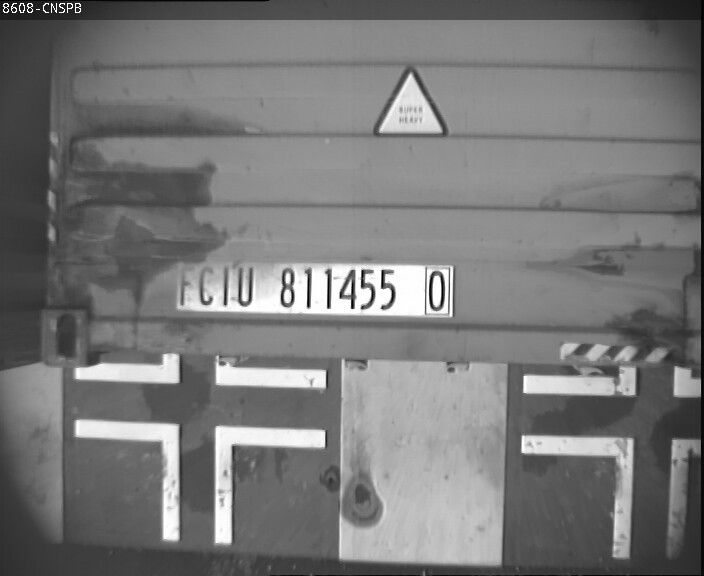groundmarker_1: (75, 417, 323, 541), (522, 435, 703, 556)
